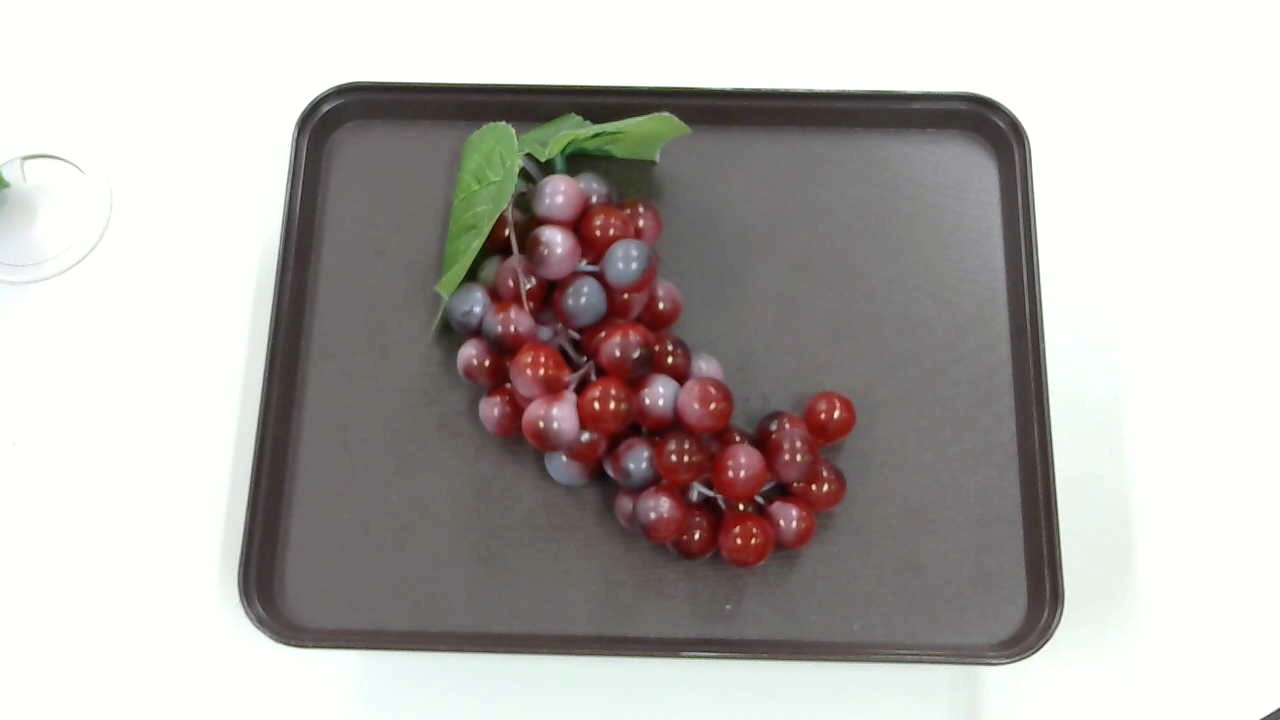grape: (398, 105, 879, 568)
